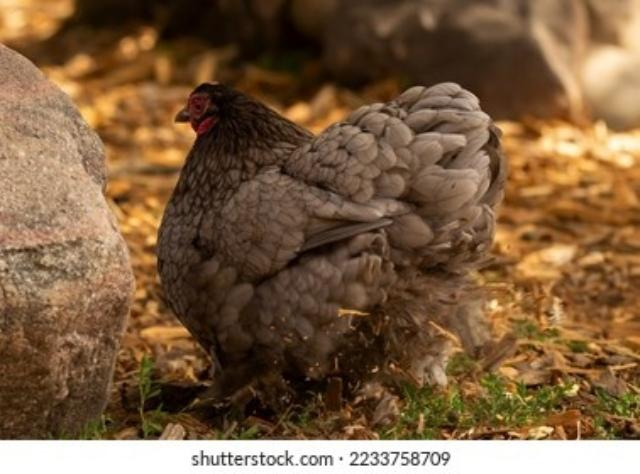Chicken: (157, 83, 507, 396)
